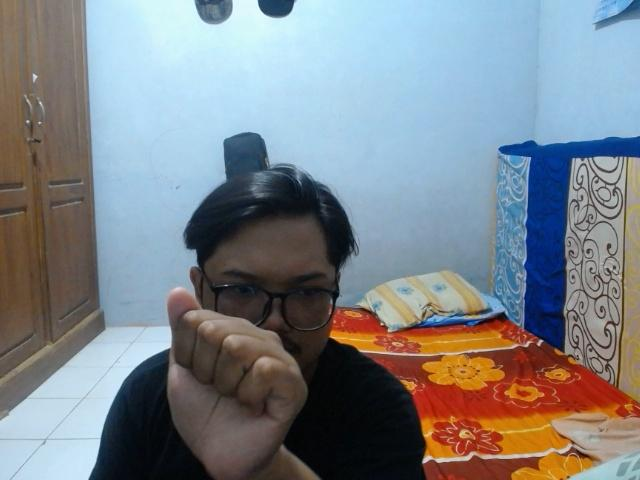Grab: (161, 282, 317, 480)
